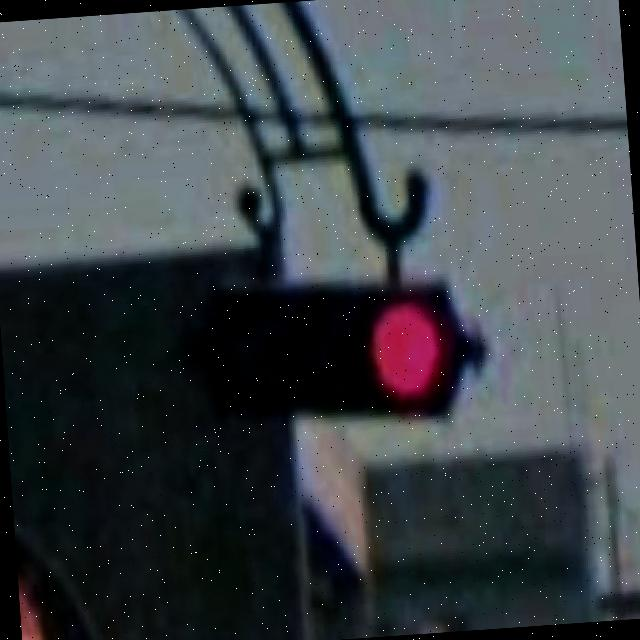Czerwone swiatlo: (206, 272, 462, 433)
